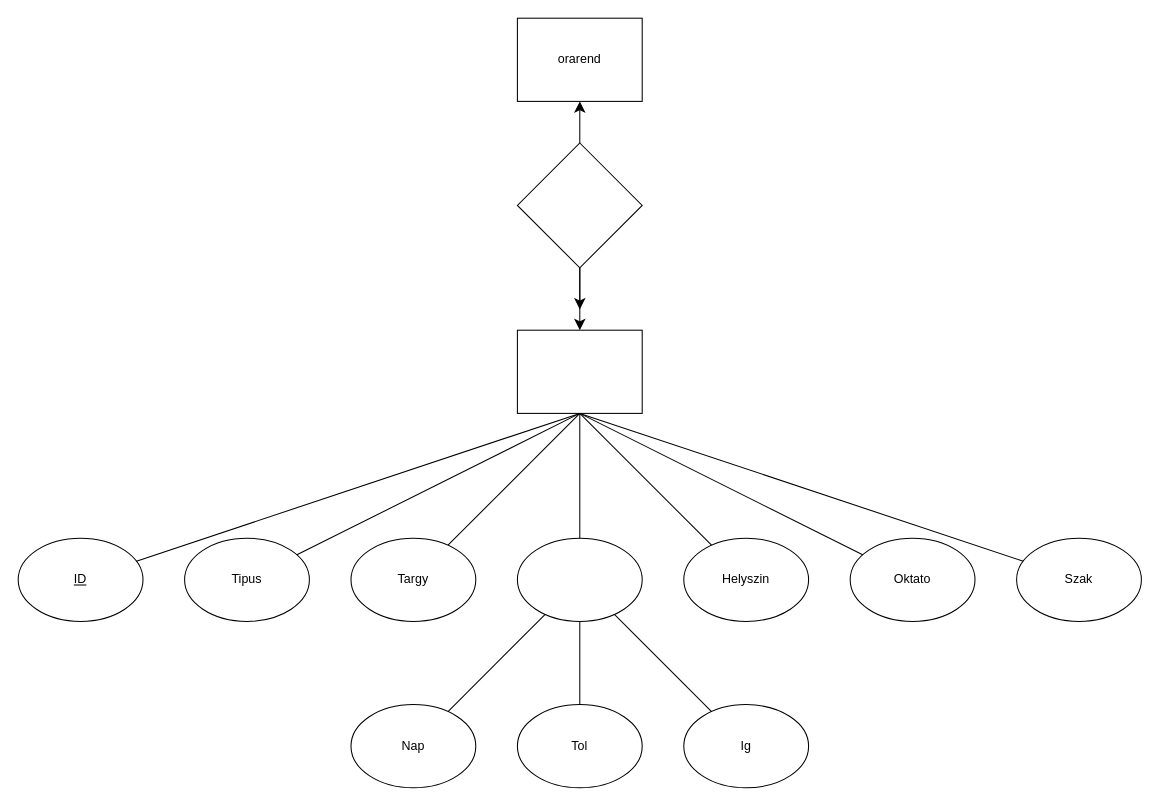
This 1160x806 diagram has some shape labels left out. Each missing label, with the centre of its shape:
Idopont: point (579, 579)
NONO_PI5J1V_NONO: point (579, 205)
ora: point (579, 371)
